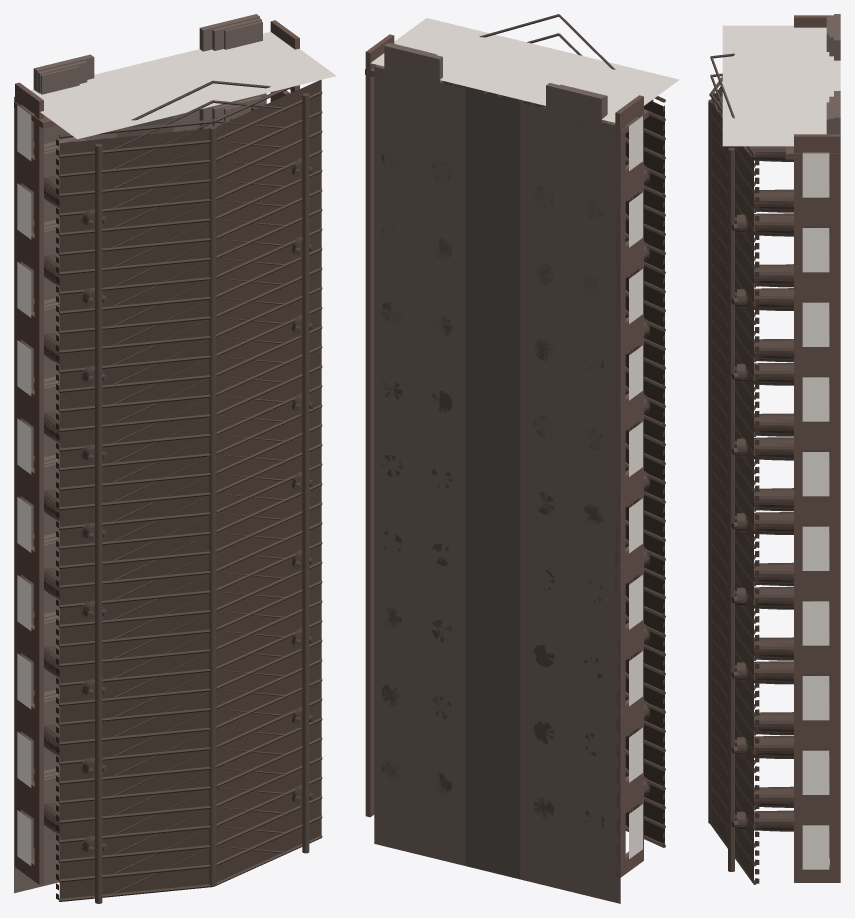
File: hall_of_posts_m1.glb
The picture shows the model from 3 angles, left to right: view 1: azimuth 30°, elevation 25°; view 2: azimuth 150°, elevation 25°; view 3: azimuth 270°, elevation 25°; orthographic projection. The views are drawn at different scales.
Visible parts, largest first — view 1: THATCH_ROOF, ROOF_BEAMS, RENDER_EXPOSURE_CARDS, EARTHEN_WALLS, EARTHEN_BENCHES, HARDWOOD_POSTS, EARTH_FLOOR; view 2: EARTH_FLOOR, WET_AISLE, EARTHEN_BENCHES, EARTHEN_WALLS, RENDER_EXPOSURE_CARDS, THATCH_ROOF, HARDWOOD_POSTS, ROOF_BEAMS; view 3: RENDER_EXPOSURE_CARDS, EARTHEN_WALLS, THATCH_ROOF, HARDWOOD_POSTS, ROOF_BEAMS, EARTHEN_BENCHES.
Boxes of the visible parts, x1,y1,x2,y2 form: THATCH_ROOF: (56, 80, 321, 899); ROOF_BEAMS: (58, 80, 322, 903); RENDER_EXPOSURE_CARDS: (17, 32, 336, 865); EARTHEN_WALLS: (14, 20, 299, 884); EARTHEN_BENCHES: (33, 14, 262, 848); HARDWOOD_POSTS: (44, 158, 314, 856); EARTH_FLOOR: (14, 93, 266, 893); EARTH_FLOOR: (374, 66, 620, 903); WET_AISLE: (465, 89, 520, 879); EARTHEN_BENCHES: (384, 43, 607, 858); EARTHEN_WALLS: (365, 34, 648, 878); RENDER_EXPOSURE_CARDS: (370, 18, 679, 858); THATCH_ROOF: (443, 82, 664, 847); HARDWOOD_POSTS: (381, 150, 650, 829); ROOF_BEAMS: (443, 14, 665, 847); RENDER_EXPOSURE_CARDS: (722, 25, 840, 869); EARTHEN_WALLS: (785, 15, 840, 882); THATCH_ROOF: (711, 86, 759, 883); HARDWOOD_POSTS: (731, 146, 829, 831); ROOF_BEAMS: (708, 53, 756, 884); EARTHEN_BENCHES: (826, 14, 840, 857).
Bounding box in the file's own units: 21.44 × 63.58 × 9.65.
